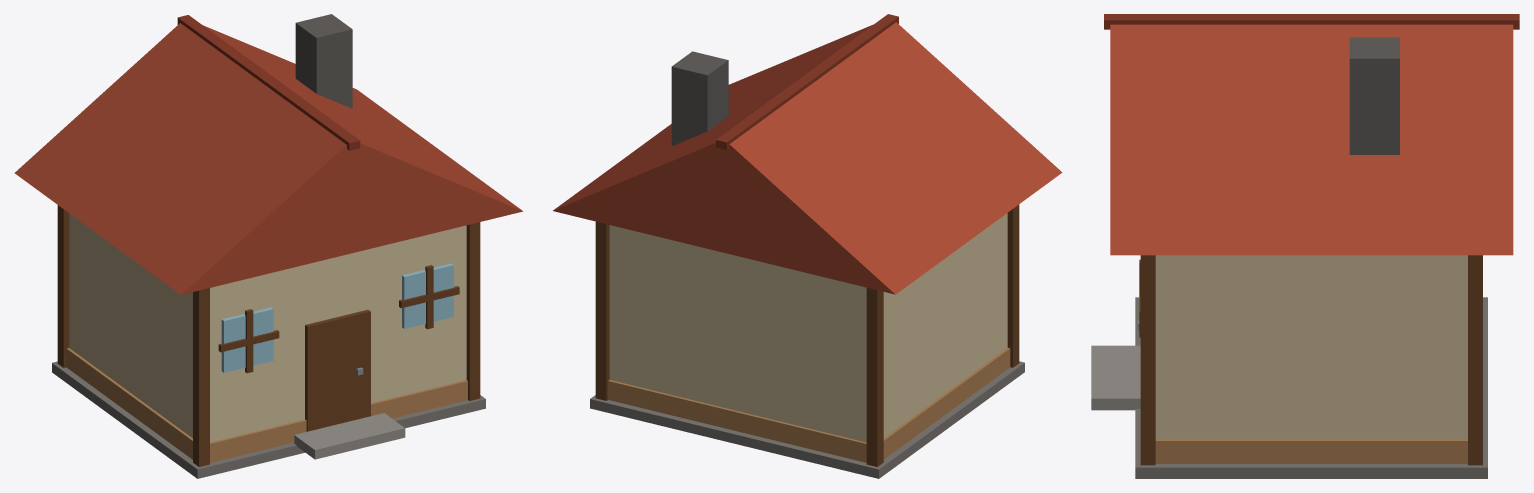
The model's file is farmhouse.glb.
The picture shows the model from 3 angles, left to right: view 1: azimuth 30°, elevation 25°; view 2: azimuth 150°, elevation 25°; view 3: azimuth 270°, elevation 25°; orthographic projection. The views are drawn at different scales.
Parts seen in each view (by area): view 1: body; view 2: body; view 3: body.
Boxes of the visible parts, <box> form: body: <box>14,14,523,478</box>; body: <box>553,14,1062,478</box>; body: <box>1091,14,1519,478</box>.
Size of the model in its own units: 3.8 by 3.45 by 3.4.
